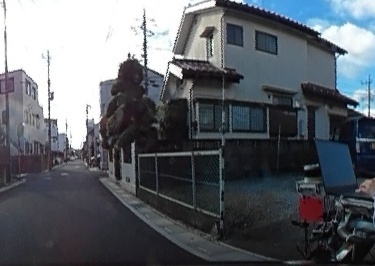person: (364, 63, 375, 263)
